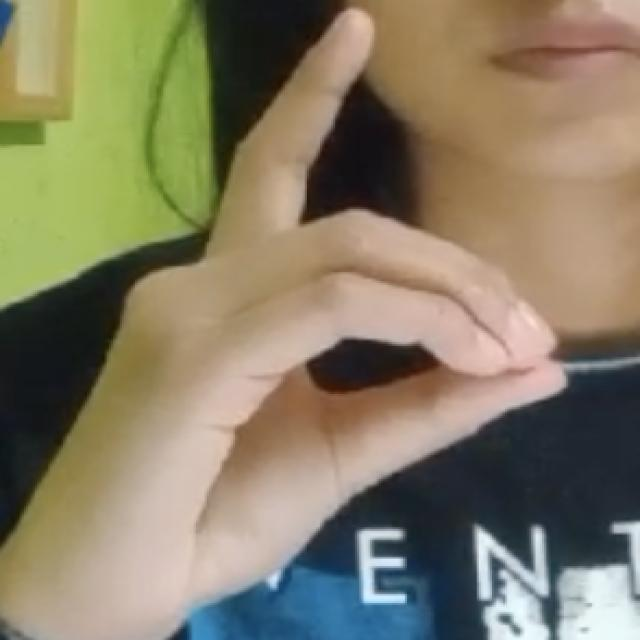D: (3, 3, 580, 622)
